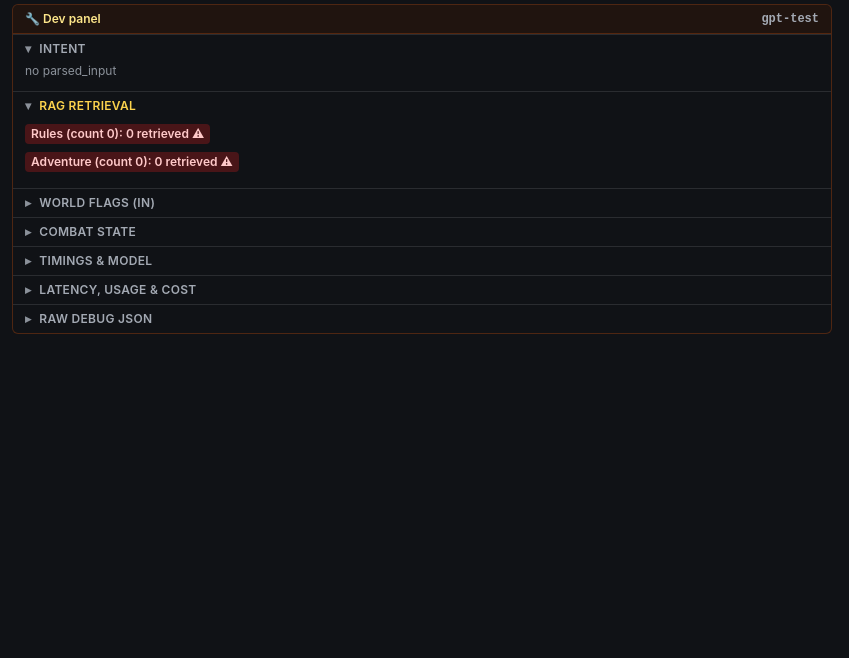
renders a measured zero as zero and a complete total without the partial label
Step 1. Click the button "▸ Latency, usage & cost" → (118, 290), box [13,276,831,304]
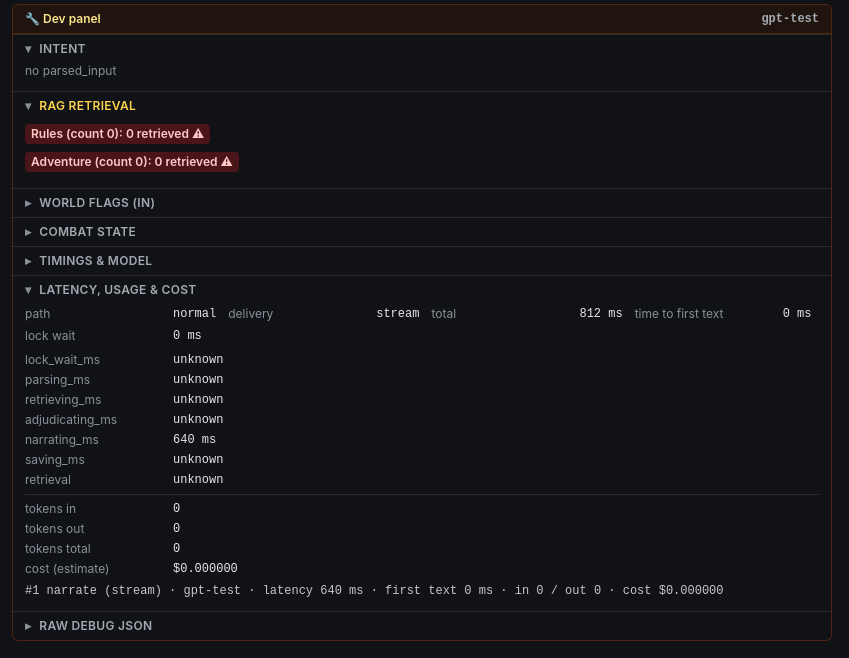
Now the text "$0.000000" is shown, box [173,561,238,577]
